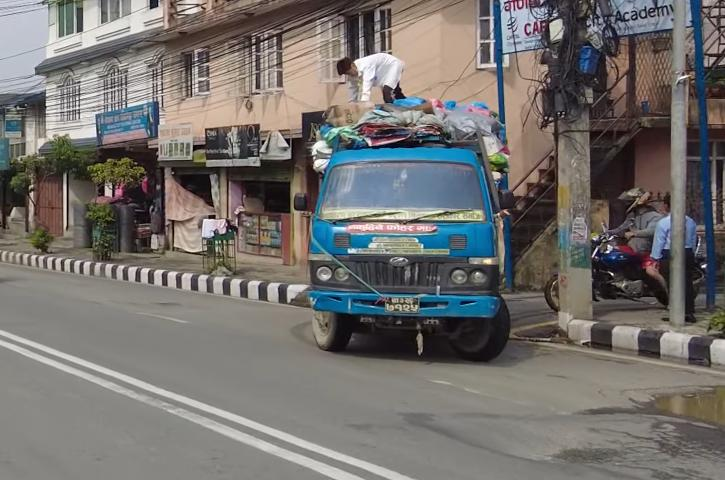bike: (548, 209, 721, 321)
mini_truck: (303, 98, 516, 360)
